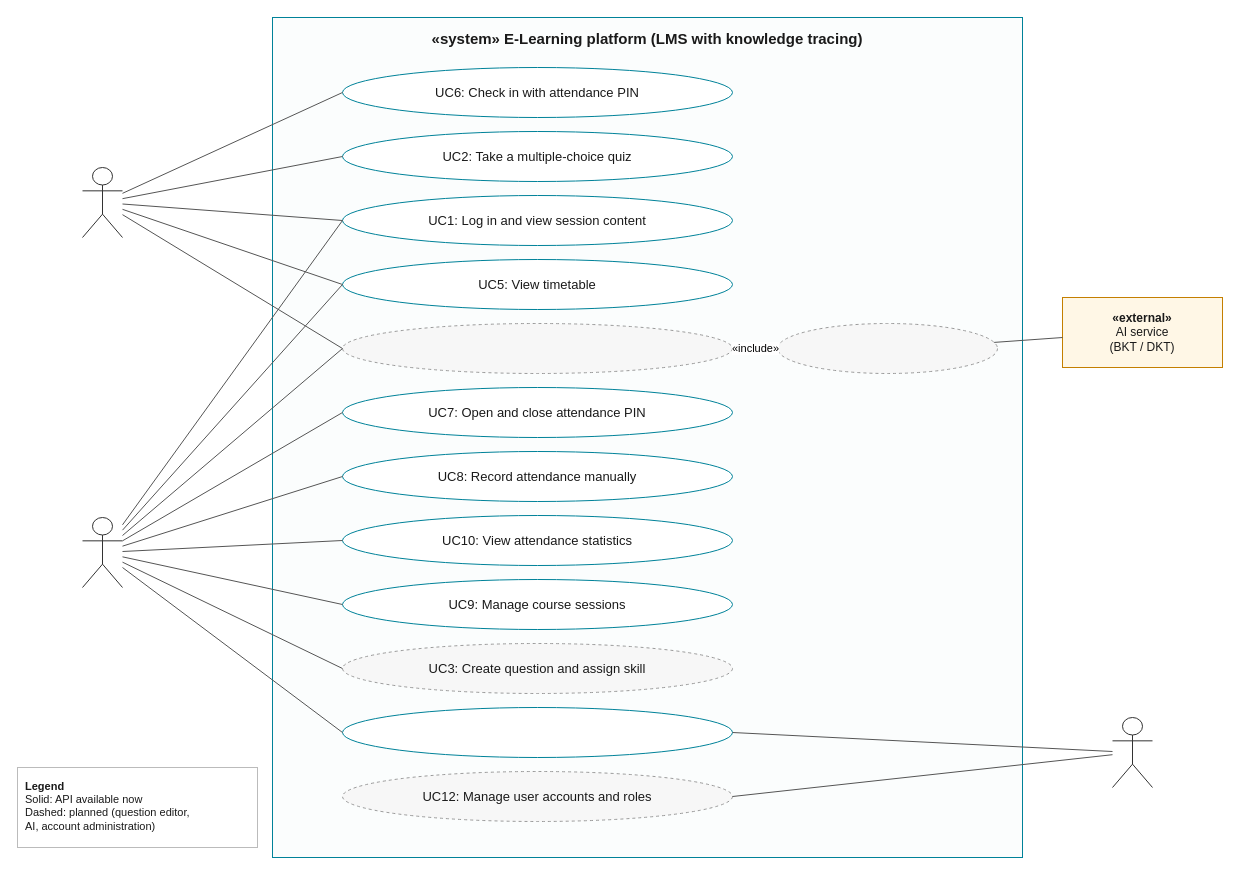
Image size: 1240x875. Some labels were removed from this diagram. The shapes that lost their labels are listed below. From the top down, each one's box as (x1, y1, x2, y2) in pixels, then its label:
(82, 166, 122, 238): Student
(342, 322, 732, 374): UC4: View knowledge competency chart
(776, 322, 998, 374): UC13: Infer skill mastery
(82, 516, 122, 588): Lecturer
(342, 706, 732, 758): UC11: Import class list
(1112, 716, 1152, 788): Administrator
